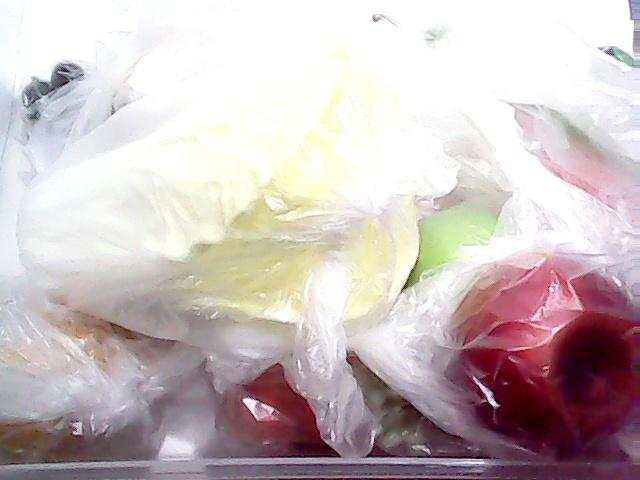apple: (438, 249, 640, 445), (398, 193, 514, 304)
carrot: (503, 88, 625, 220)
grape: (354, 360, 448, 470), (3, 36, 108, 108)
napa cabbage: (5, 61, 471, 346)
peach: (210, 331, 358, 457)
potato: (1, 291, 168, 470)
